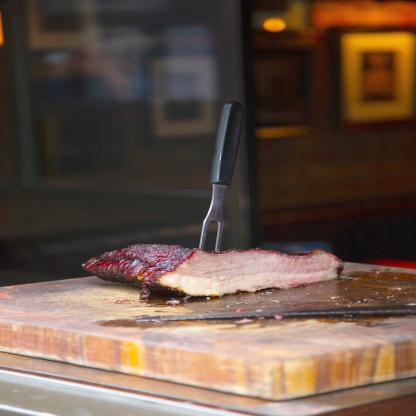Carne: (77, 247, 345, 294)
